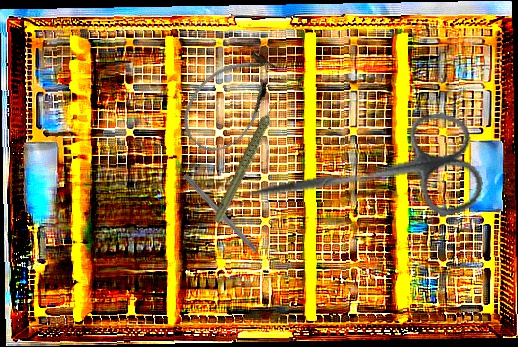Cannula: (168, 37, 294, 165)
Handpiece: (190, 97, 307, 225)
Hook Surgical: (181, 172, 270, 267)
Iris Scissors: (237, 108, 487, 249)
